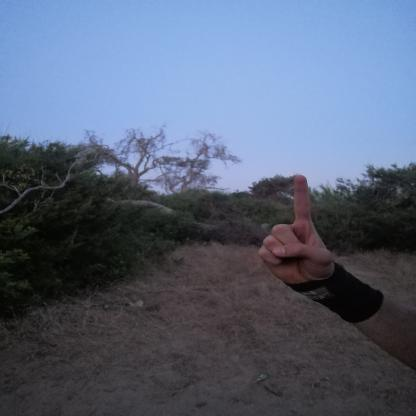BAA: (248, 168, 342, 297)
